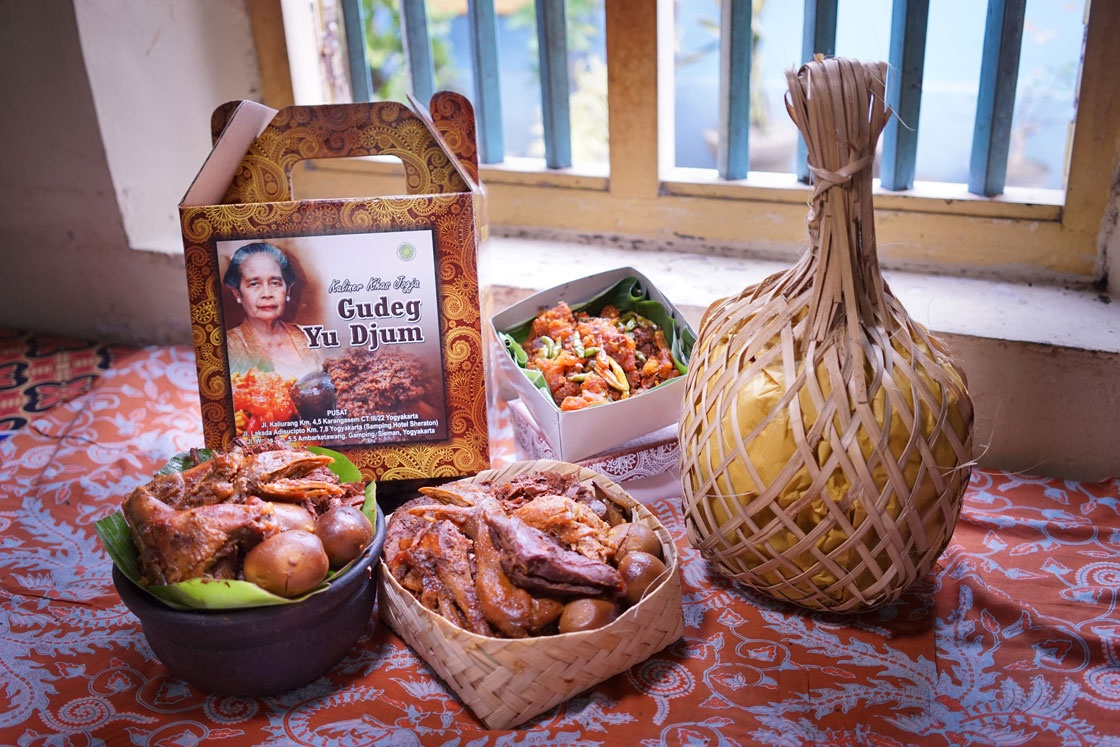gudeg: (392, 473, 669, 641), (125, 445, 375, 594)
